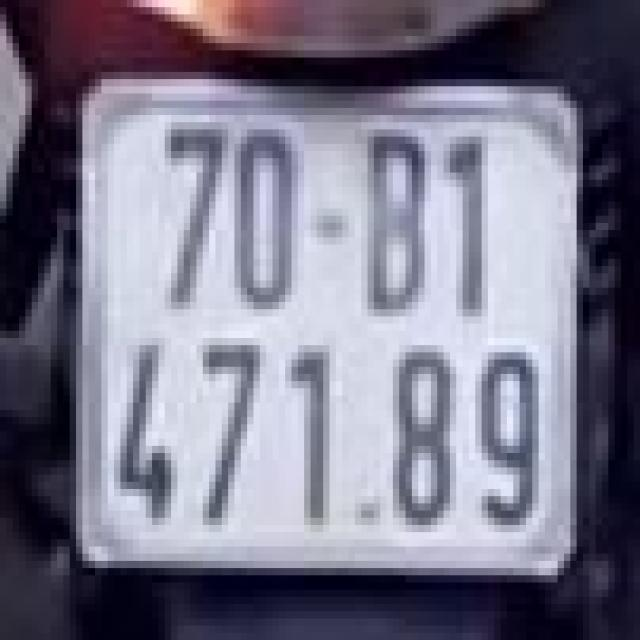0: (228, 122, 304, 316)
1: (273, 331, 342, 532), (440, 126, 498, 327)
4: (104, 331, 187, 532)
7: (146, 115, 228, 316), (190, 334, 266, 543)
8: (380, 338, 463, 539)
9: (466, 334, 548, 550)
B: (364, 104, 434, 327)
